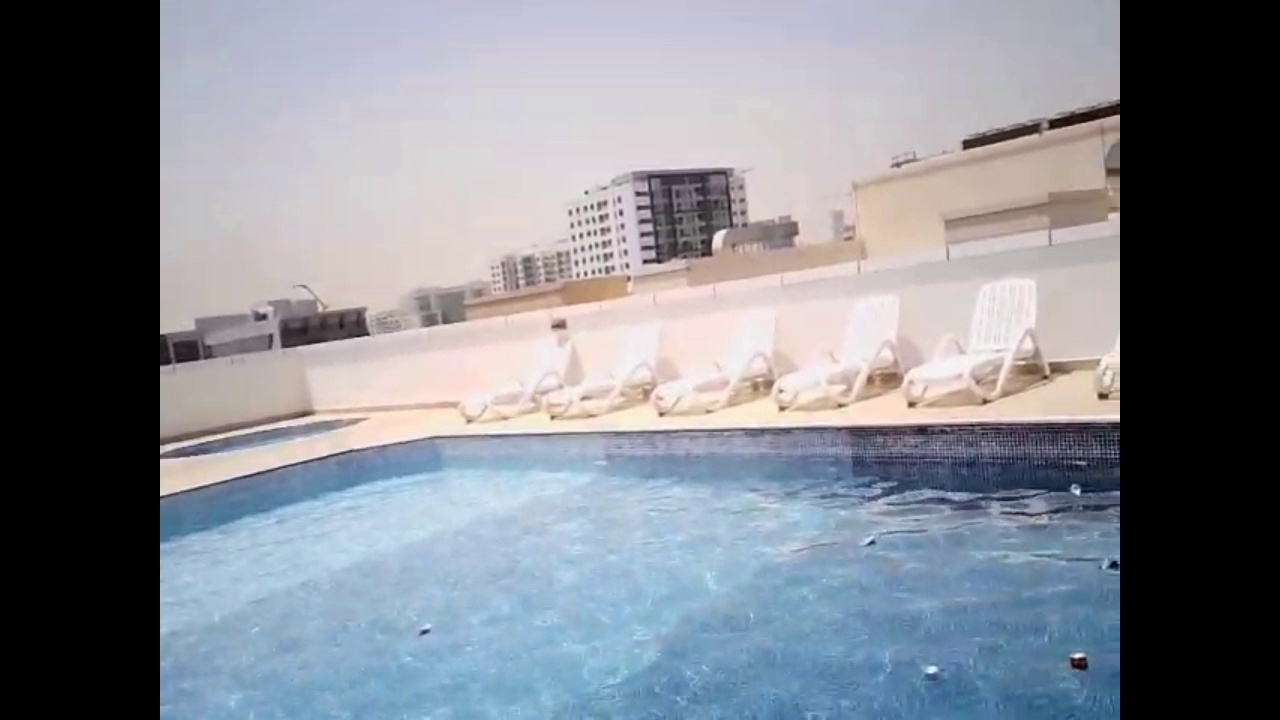debris: (1064, 647, 1091, 679), (917, 658, 943, 688), (1094, 551, 1118, 578), (858, 530, 883, 555), (1063, 478, 1085, 499), (414, 620, 434, 642)
